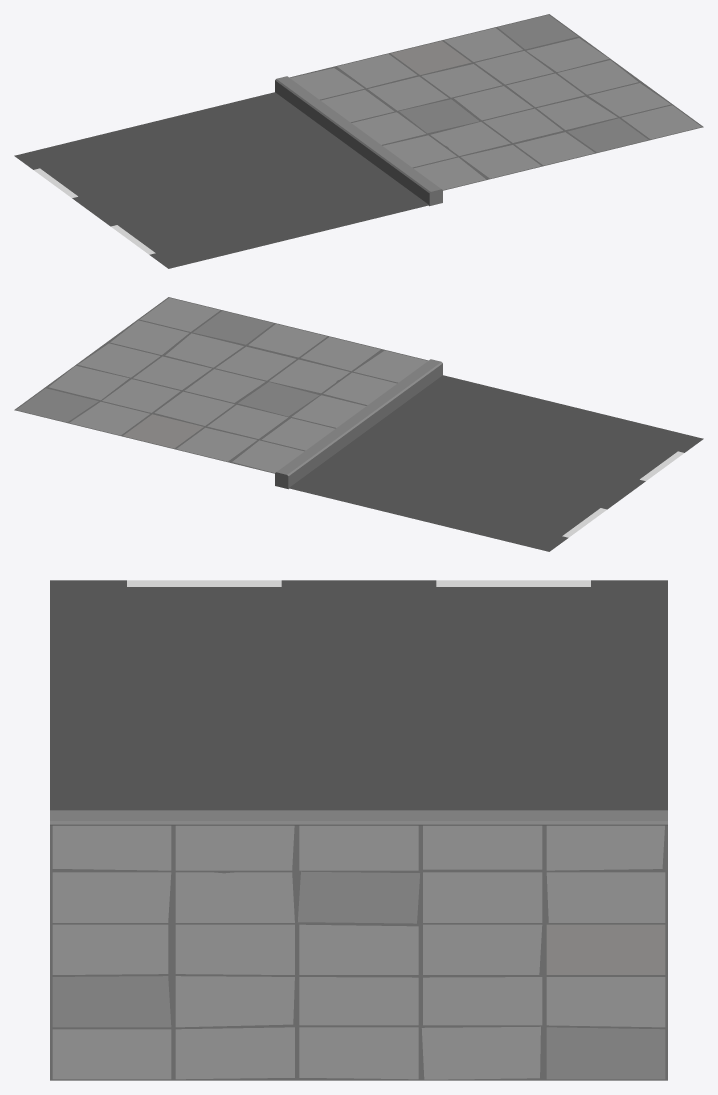
The model's file is Road_01.glb.
The picture shows the model from 3 angles, top to bottom: view 1: azimuth 30°, elevation 25°; view 2: azimuth 150°, elevation 25°; view 3: azimuth 270°, elevation 25°; orthographic projection. The views are drawn at different scales.
Parts seen in each view (by area): view 1: Road_01; view 2: Road_01; view 3: Road_01.
Part boxes in pixels (left/top/right/bottom): Road_01: left=14, top=14, right=703, bottom=268; Road_01: left=14, top=297, right=703, bottom=551; Road_01: left=50, top=580, right=667, bottom=1080.
Size of the model in its own units: 6 by 0.15 by 3.
1 material, 1 textured.
